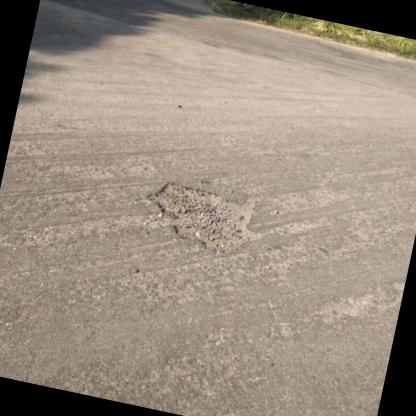pothole: (136, 173, 270, 262)
